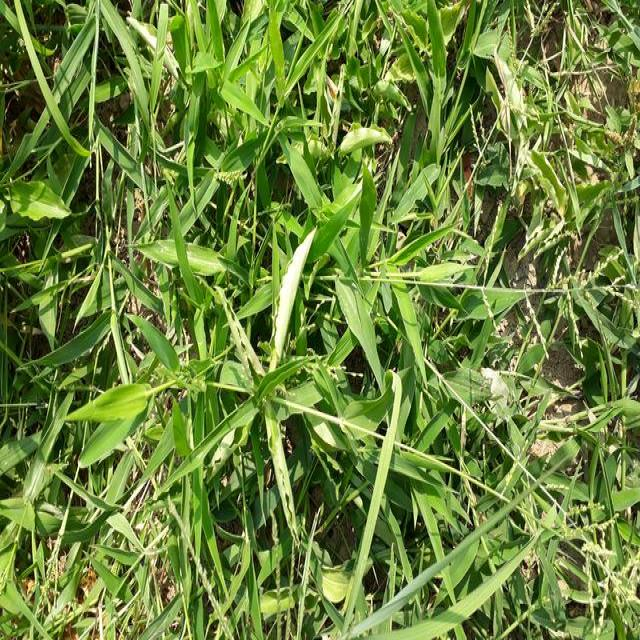weed: (11, 11, 638, 630)
